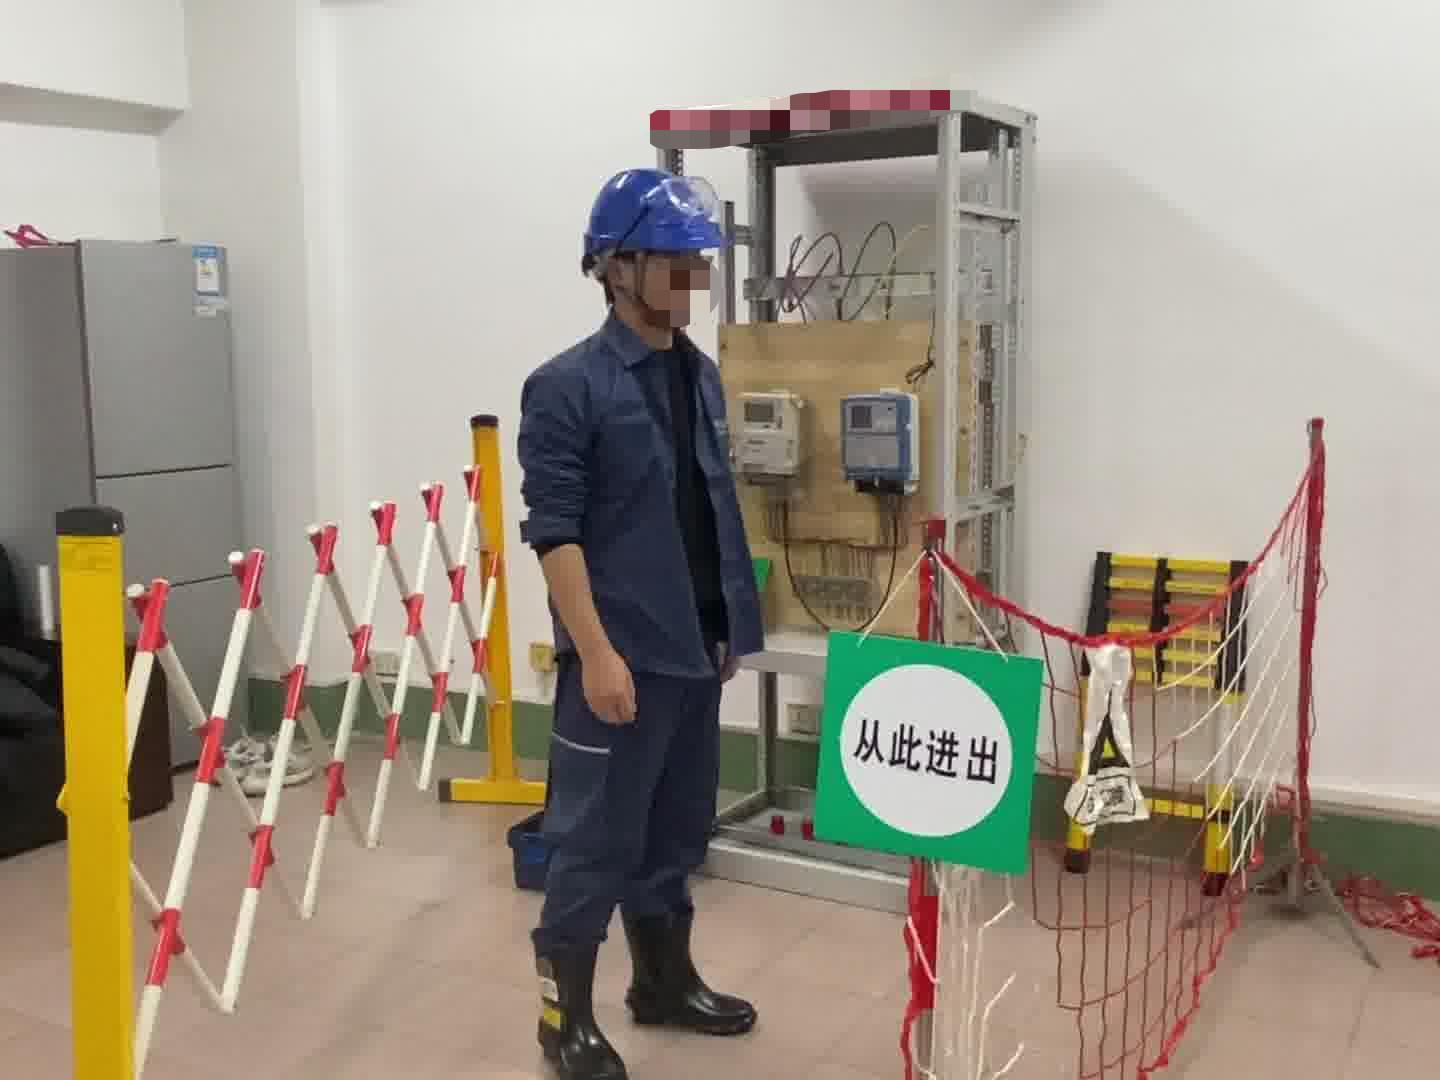halt: (581, 167, 737, 339)
inear: (601, 251, 658, 317)
